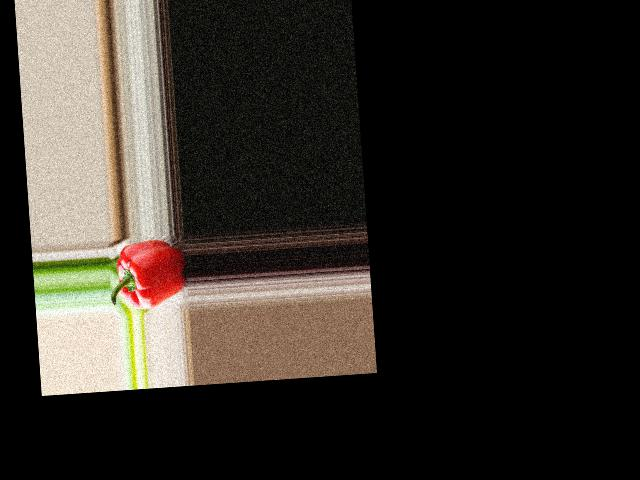bell_pepper: (109, 239, 190, 313)
